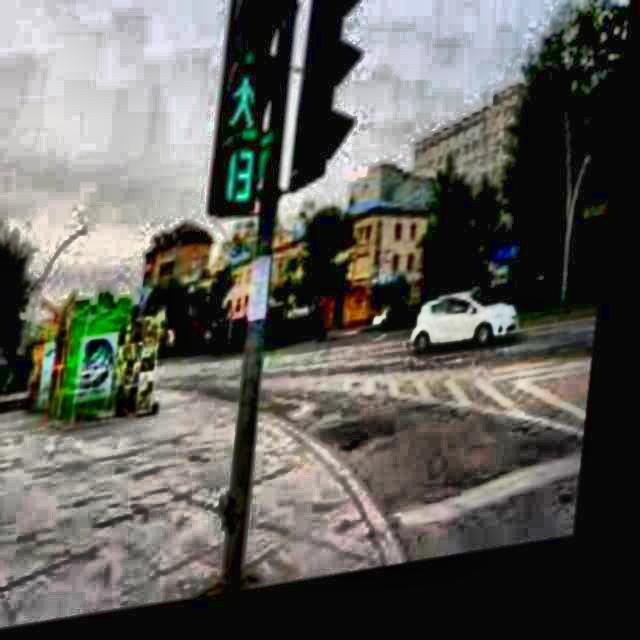semaforo pedestre: (153, 0, 331, 285)
